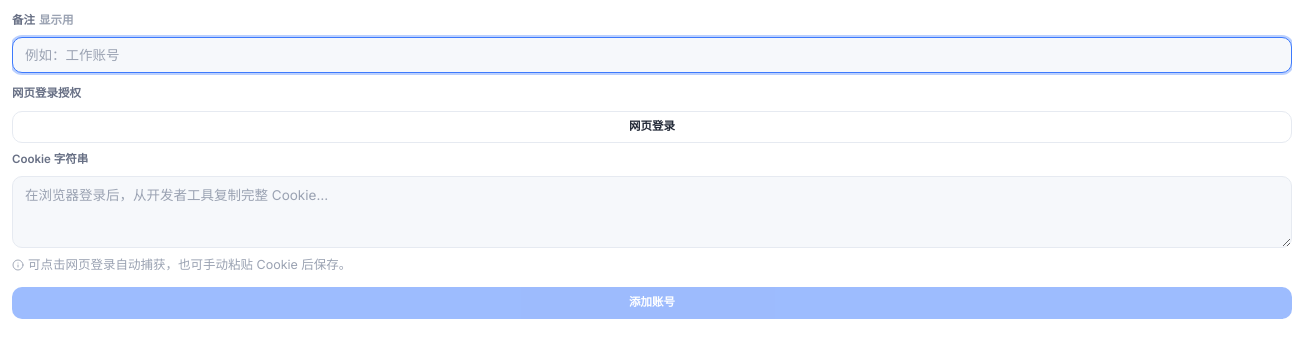
Test: WebLoginForm › shows error when on_save rejects
Click the button "网页登录".
click(652, 126)  # box [12,110,1292,142]
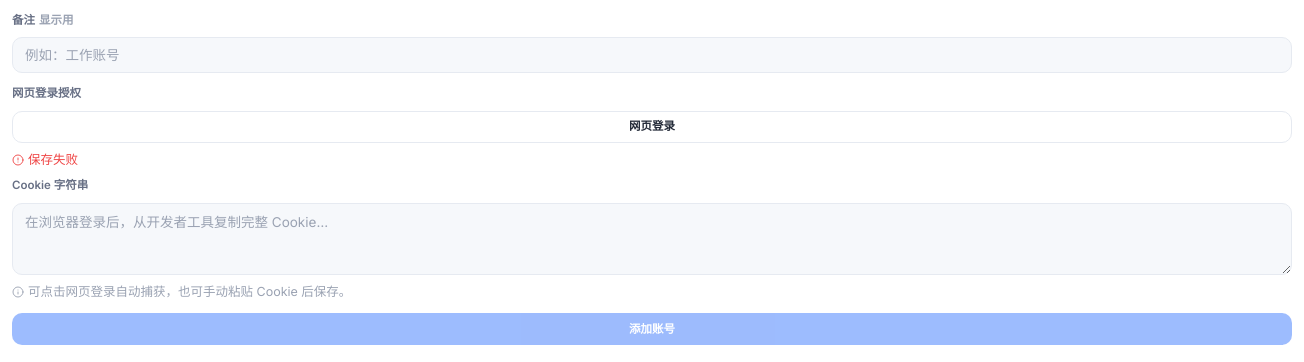
expect the text "保存失败" is shown: met, box [12,152,78,166]
